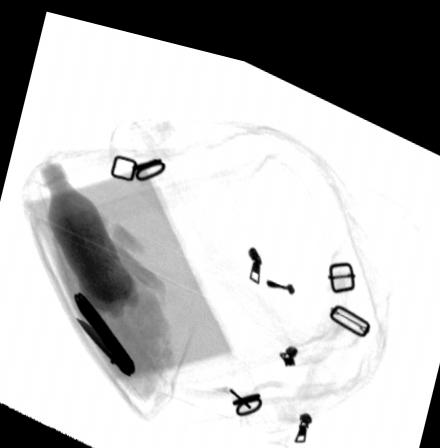Knife: (72, 287, 135, 371)
